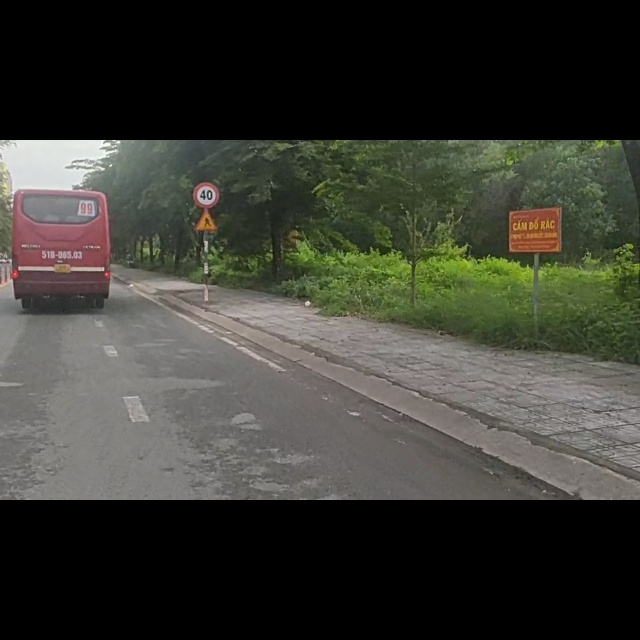bien_nguy_hiem: (194, 76, 221, 121), (195, 126, 220, 166)
